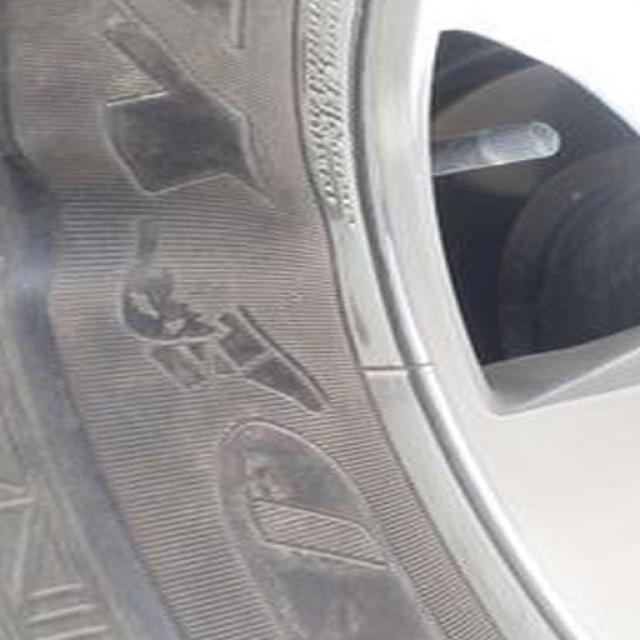Bulge: (1, 179, 340, 380)
